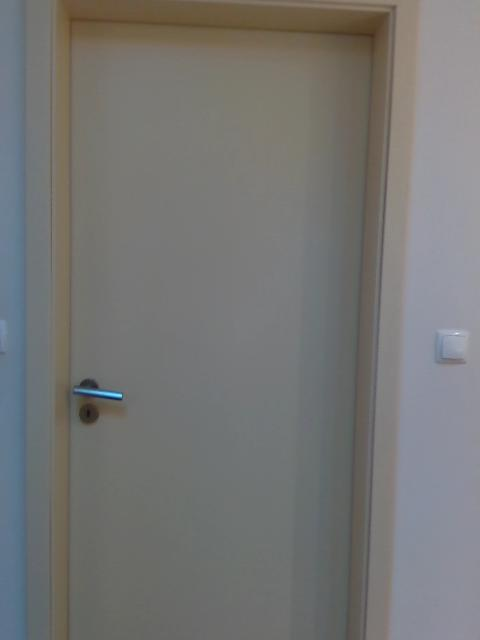door: (68, 28, 372, 640)
